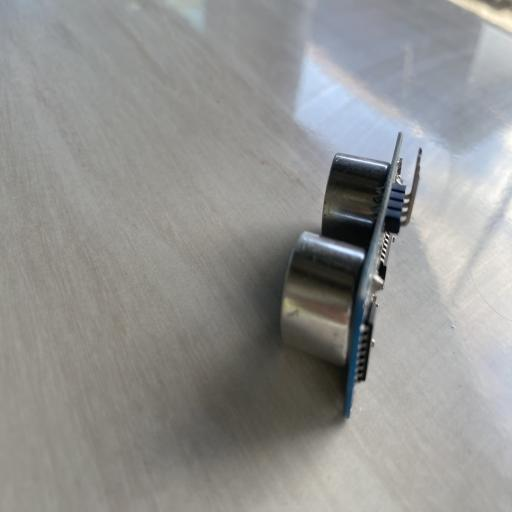Ultrasonic Sensor: (280, 129, 422, 419)
